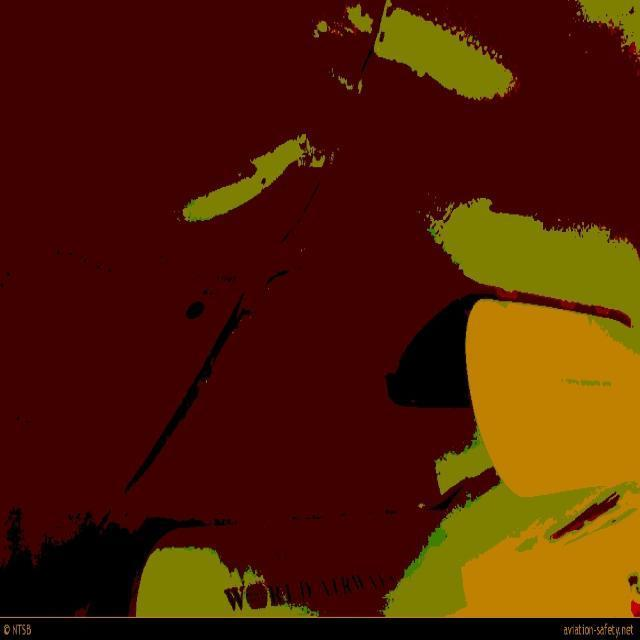crack: (124, 286, 248, 493)
